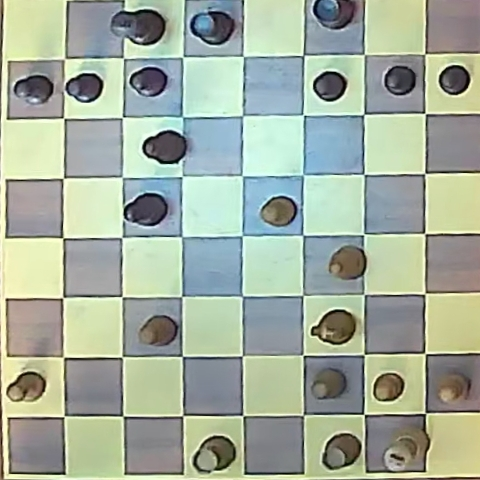black-bishop: (142, 130, 186, 165), (124, 193, 168, 227), (66, 72, 104, 102)
black-king: (111, 9, 165, 46)
black-pawn: (14, 74, 54, 105), (129, 67, 167, 96), (438, 64, 471, 95), (384, 65, 416, 95), (313, 71, 346, 100)
black-rook: (190, 10, 233, 45), (312, 0, 354, 29)
white-bishop: (328, 246, 366, 281)
white-king: (382, 425, 430, 472)
white-knight: (311, 310, 355, 346)
white-pawn: (6, 372, 46, 403), (138, 315, 176, 346), (260, 196, 297, 226), (311, 369, 345, 399), (437, 374, 468, 403), (373, 373, 404, 402)
white-rook: (193, 436, 235, 473), (322, 433, 361, 470)
